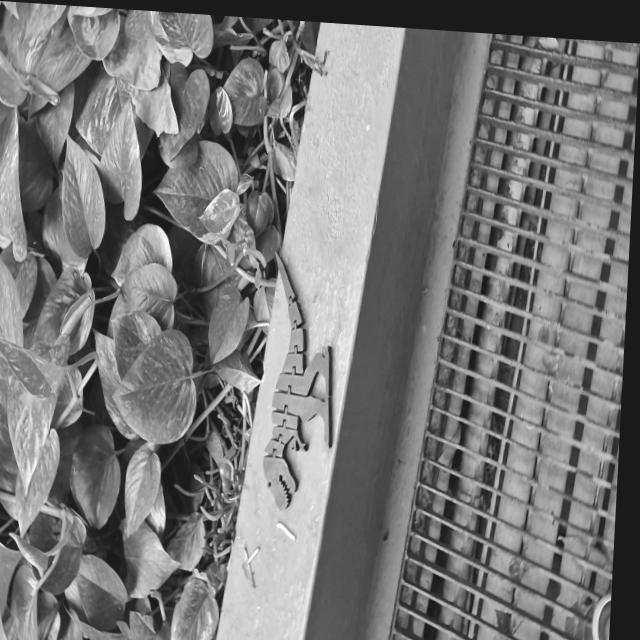dino: (260, 250, 343, 514)
